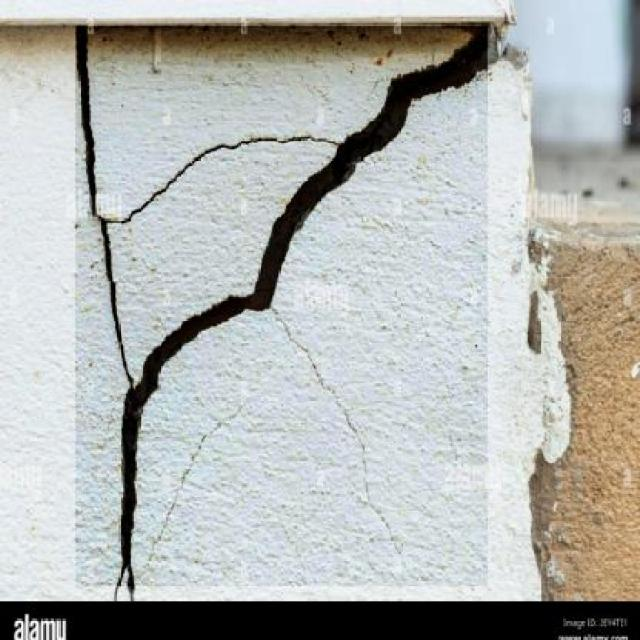Crack: (271, 314, 432, 552), (150, 231, 330, 355), (338, 24, 502, 160), (59, 33, 124, 373), (155, 388, 258, 565), (253, 160, 422, 233), (108, 350, 157, 587), (137, 108, 336, 152), (122, 168, 207, 219)
